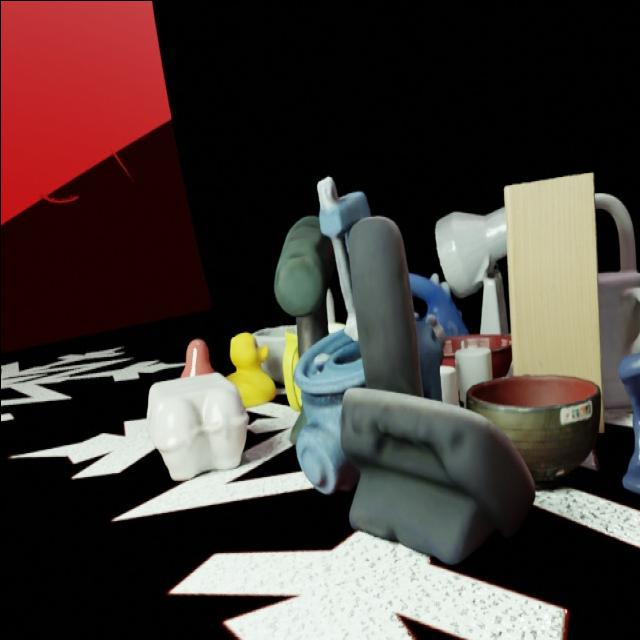Other Objects: (342, 388, 533, 561), (466, 375, 600, 483), (349, 464, 494, 561), (348, 216, 422, 395), (294, 328, 364, 492), (147, 372, 247, 479), (436, 207, 506, 296), (228, 331, 275, 405), (442, 333, 511, 376), (619, 352, 640, 492), (455, 344, 492, 405), (481, 271, 507, 332), (282, 331, 300, 409), (182, 337, 213, 376), (442, 364, 458, 404)
